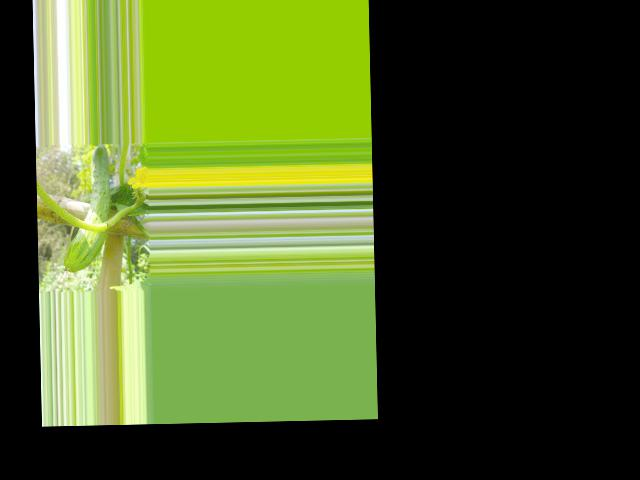cucumber: (62, 143, 112, 272)
